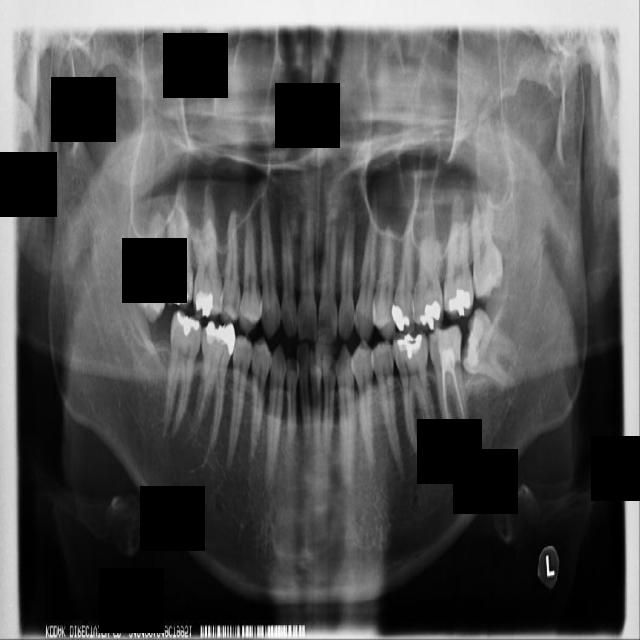3M ESPE Implant: (135, 200, 166, 324)
52: (454, 306, 496, 377), (164, 307, 208, 361), (423, 322, 468, 371), (391, 329, 432, 380), (412, 273, 444, 334), (441, 267, 476, 322), (161, 260, 196, 311), (199, 320, 237, 365), (191, 271, 223, 322), (391, 284, 415, 338)
73: (588, 560, 590, 572)
BioHorizons Implant: (441, 194, 482, 323)
BioLife Implant: (470, 187, 504, 305)
Biomet 3i Implant: (455, 306, 531, 390)
Blue Sky Bio Implant: (425, 322, 471, 447)
Caries: (163, 200, 195, 310)
Implant: (163, 308, 204, 438)
